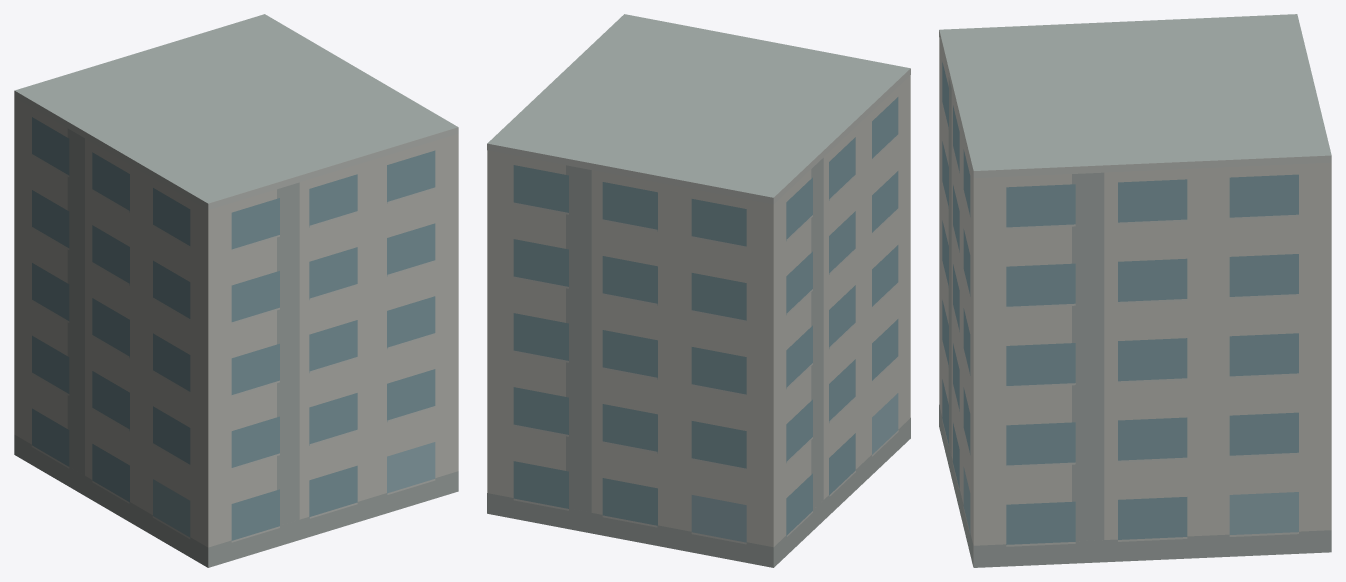
The model's file is survey-upis-32631025.glb.
3 renders of one model, left to right at view 1: azimuth 30°, elevation 25°; view 2: azimuth 150°, elevation 25°; view 3: azimuth 270°, elevation 25°, orthographic. The views are drawn at different scales.
Visible parts, largest first — view 1: survey-upis-32631025.tmp; view 2: survey-upis-32631025.tmp; view 3: survey-upis-32631025.tmp.
Boxes of the visible parts, <box> form: survey-upis-32631025.tmp: <box>14,14,458,567</box>; survey-upis-32631025.tmp: <box>487,14,910,567</box>; survey-upis-32631025.tmp: <box>939,14,1331,567</box>.
Size of the model in its own units: 11.3 by 13.3 by 11.93.
